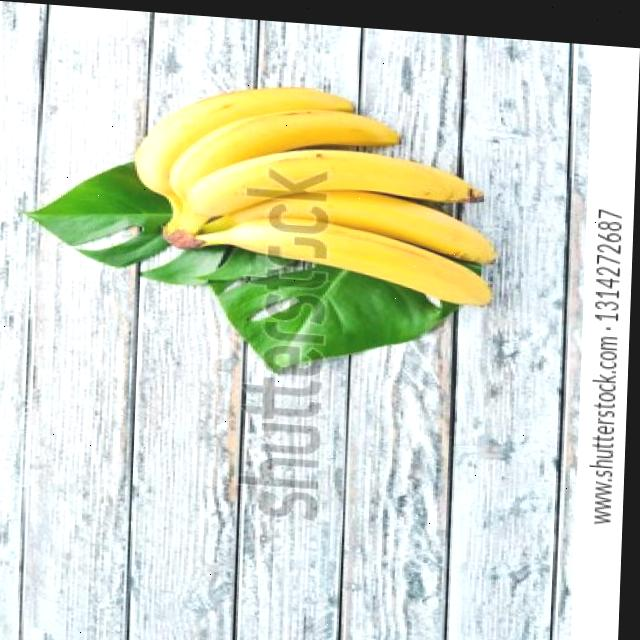banana: (124, 71, 512, 309)
